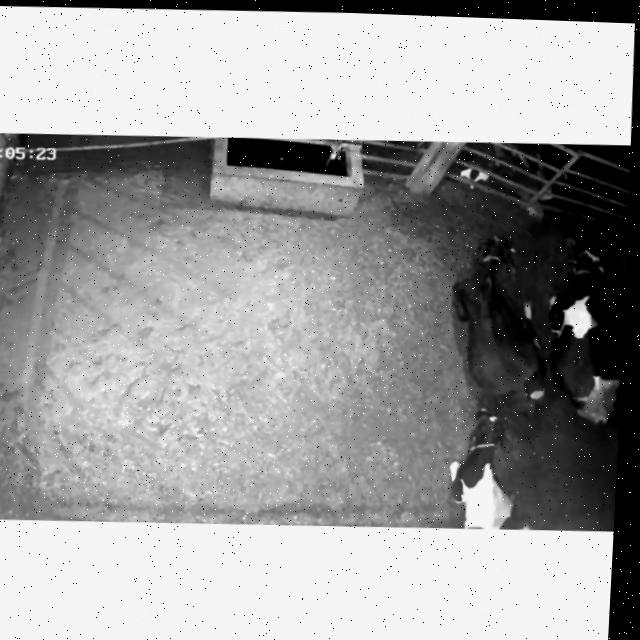lay: (451, 237, 545, 407), (548, 250, 619, 422), (449, 408, 529, 530)
